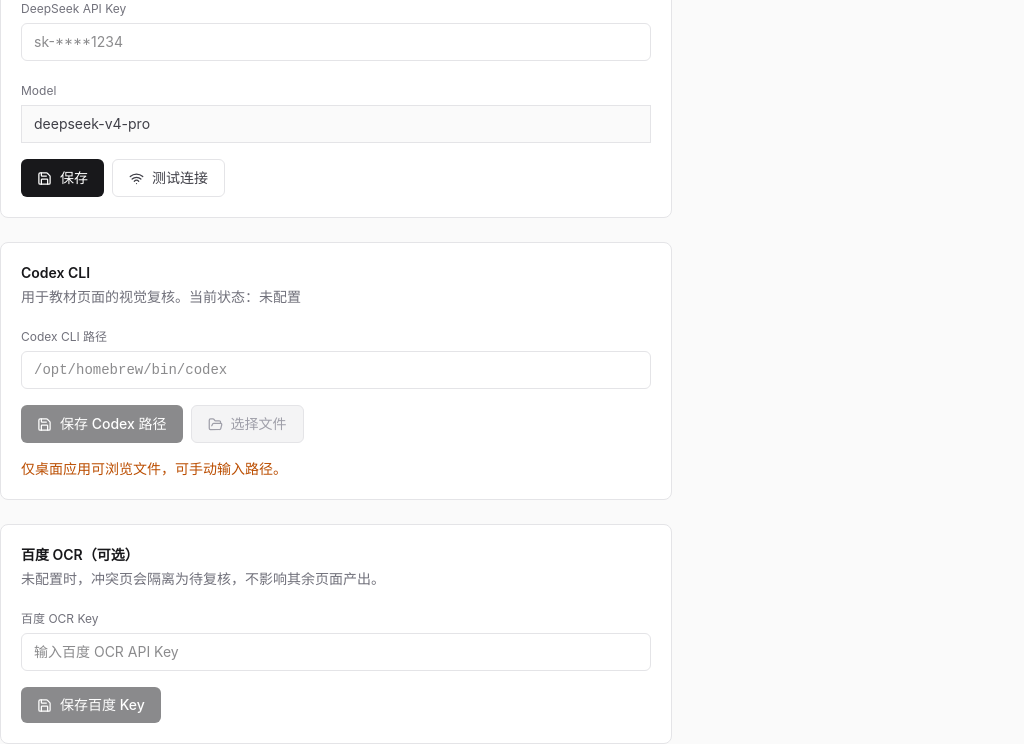
Test case: shows actionable copy when saving the baidu key fails
(page scrolled)
Step 1. Type "bad-key" into the password field labelled "百度 OCR Key" → (336, 652), box [21,633,651,671]
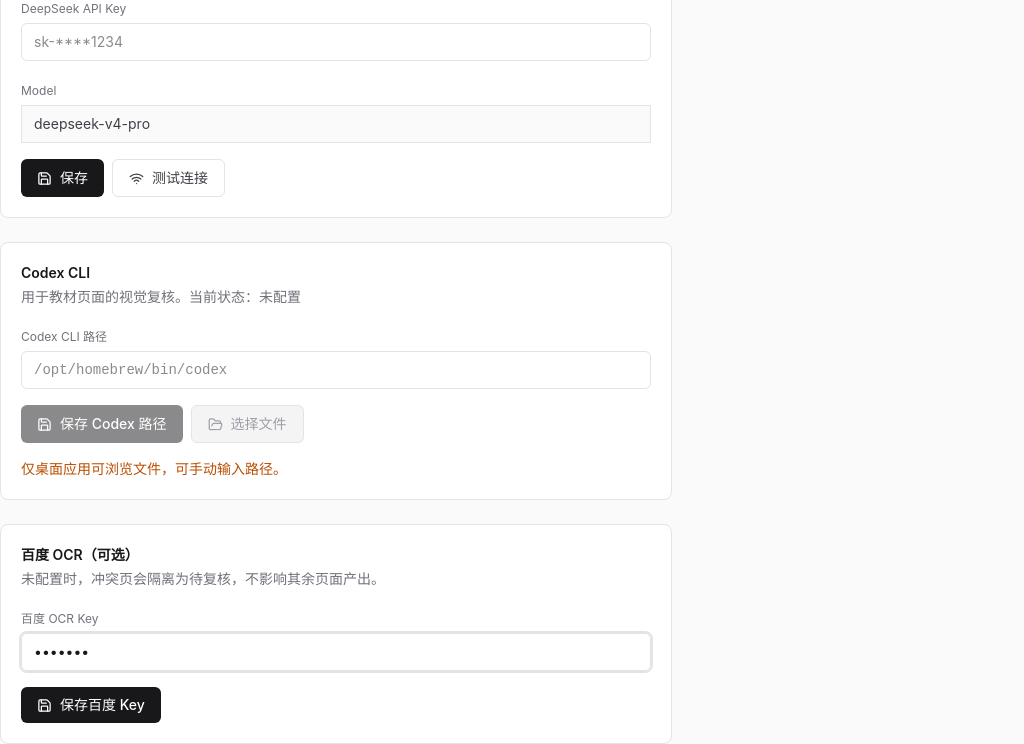
Step 2. Click the button "保存百度 Key" → (91, 705), box [21,687,161,723]
(page scrolled)
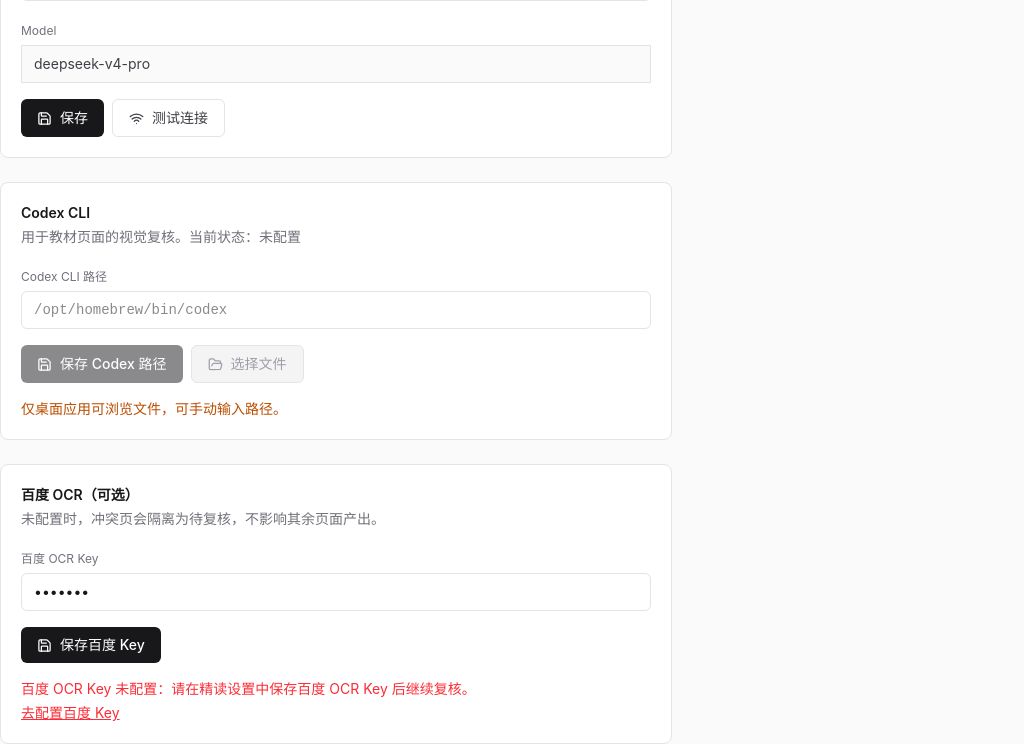
Result: the text "百度 OCR Key 未配置：请在精读设置中保存百度 OCR Key 后继续复核。" is shown at [21,680,476,697]
Result: the button "去配置百度 Key" is shown at [21,703,120,723]
